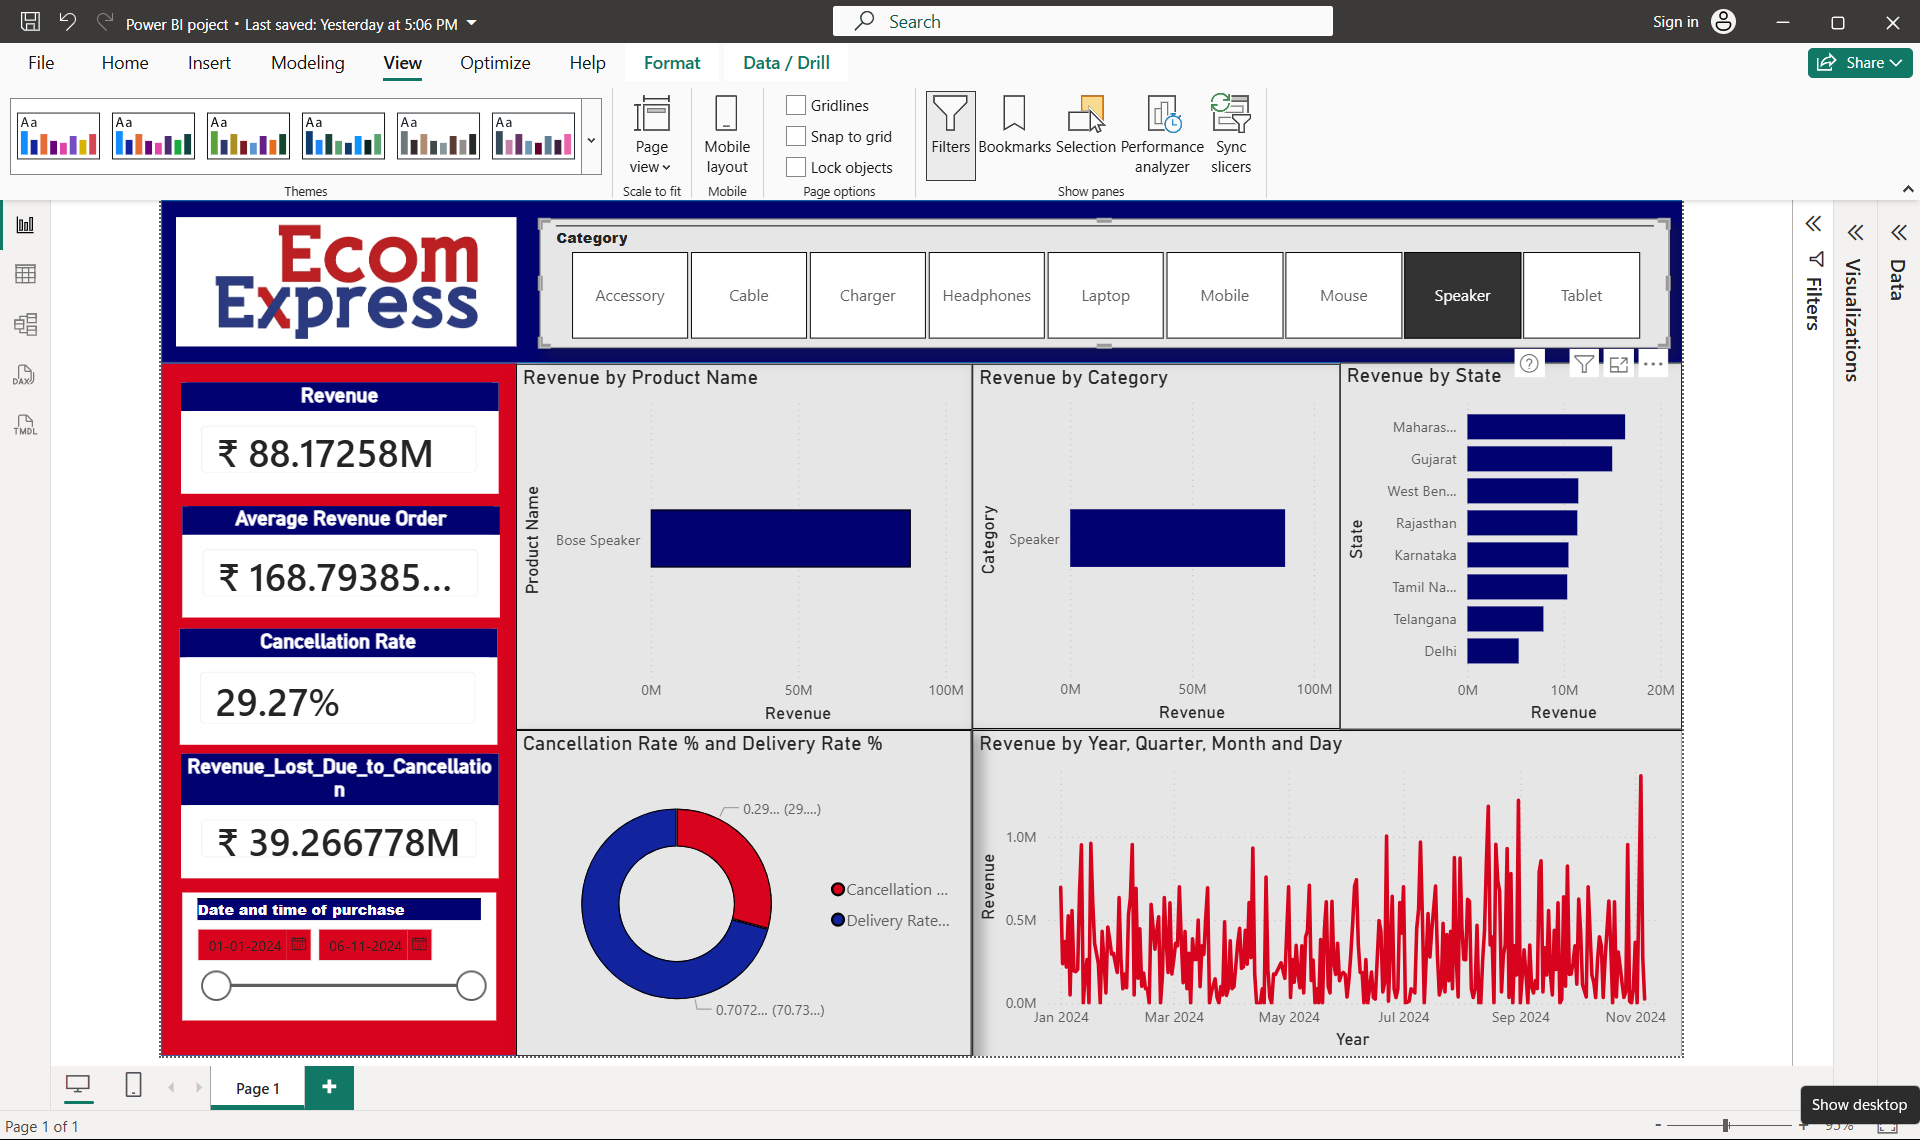

The dashboard page shown, as its layout file describes it:
{"tool":"powerbi","page":{"name":"Page 1","canvas":[1280,720],"ordinal":0},"visuals":[{"type":"shape","box":[0,0,1280.3,137.2],"z":0},{"type":"shape","box":[0,136.9,299,583.6],"z":1000},{"type":"image","box":[12.3,0,286.8,137.2],"z":2000},{"type":"barChart","fields":{"Y":["table.Revenue"],"Category":["Products.Product Name"]},"box":[298.6,137.7,383.8,308.1],"z":3000},{"type":"barChart","fields":{"Category":["Products.Category"],"Y":["table.Revenue"]},"box":[682,138.1,309.8,307.4],"z":4000},{"type":"lineChart","fields":{"Category":["Orders.Date and time of purchase.Variation.Date Hierarchy.Year","Orders.Date and time of purchase.Variation.Date Hierarchy.Quarter","Orders.Date and time of purchase.Variation.Date Hierarchy.Month","Orders.Date and time of purchase.Variation.Date Hierarchy.Day"],"Y":["table.Revenue"]},"box":[682,445.5,598,275],"z":5000},{"type":"barChart","fields":{"Category":["Customers.State"],"Y":["table.Revenue"]},"box":[991.8,136.9,288.2,308.6],"z":6000},{"type":"slicer","fields":{"Values":["Products.Category"]},"box":[318.6,15.4,950.2,109],"z":7000},{"type":"cardVisual","title":"Revenue","fields":{"Data":["table.Revenue"]},"box":[16.8,153.7,266.9,93.6],"z":8000},{"type":"cardVisual","title":"Average Revenue Order","fields":{"Data":["table.AverageRevenueOrder"]},"box":[18.2,257.1,266.9,93.6],"z":9000},{"type":"cardVisual","title":"Cancellation Rate","fields":{"Data":["table.Cancellation Rate"]},"box":[15.4,360.5,266.9,97.8],"z":10000},{"type":"cardVisual","title":"Revenue_Lost_Due_to_Cancellation","fields":{"Data":["table.Revenue_Lost"]},"box":[16.8,465.3,266.9,104.8],"z":11000},{"type":"slicer","fields":{"Values":["Orders.Date and time of purchase"]},"box":[18.2,582.7,264.1,107.6],"z":12000},{"type":"donutChart","fields":{"Y":["table.Cancellation Rate","table.Delivery Rate %"]},"box":[299,446,383,274],"z":13000}]}

Visuals, with their boxes on the page's 1280x720 design canvas (x1, y1, x2, y2). These are canvas units, not pixel positions in the 1920x1140 screenshot, which may show the page scaled, cropped or inside an application window:
shape: bbox(0, 0, 1280, 137)
shape: bbox(0, 137, 299, 720)
image: bbox(12, 0, 299, 137)
barChart - table.Revenue x Products.Product Name: bbox(299, 138, 682, 446)
barChart - Products.Category x table.Revenue: bbox(682, 138, 992, 446)
lineChart - Orders.Date and time of purchase.Variation.Date Hierarchy.Year x Orders.Date and time of purchase.Variation.Date Hierarchy.Quarter: bbox(682, 446, 1280, 720)
barChart - Customers.State x table.Revenue: bbox(992, 137, 1280, 446)
slicer - Products.Category: bbox(319, 15, 1269, 124)
"Revenue" cardVisual: bbox(17, 154, 284, 247)
"Average Revenue Order" cardVisual: bbox(18, 257, 285, 351)
"Cancellation Rate" cardVisual: bbox(15, 360, 282, 458)
"Revenue_Lost_Due_to_Cancellation" cardVisual: bbox(17, 465, 284, 570)
slicer - Orders.Date and time of purchase: bbox(18, 583, 282, 690)
donutChart - table.Cancellation Rate x table.Delivery Rate %: bbox(299, 446, 682, 720)
